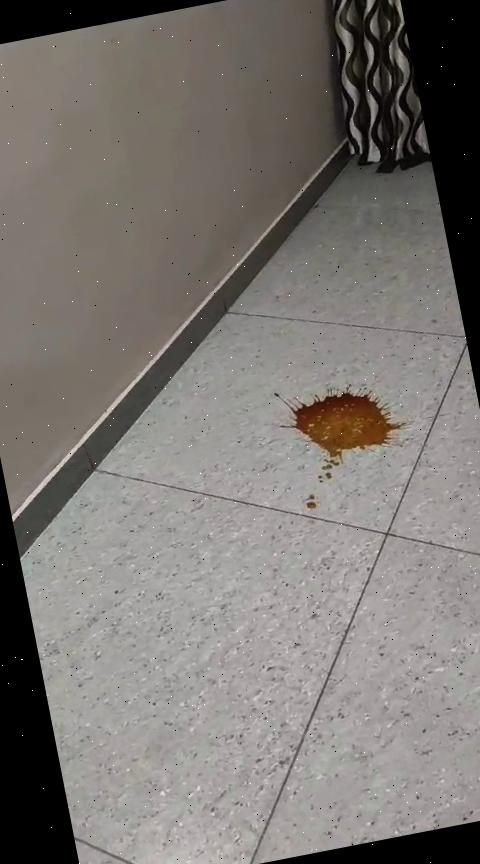dirty_floor: (270, 358, 428, 540)
